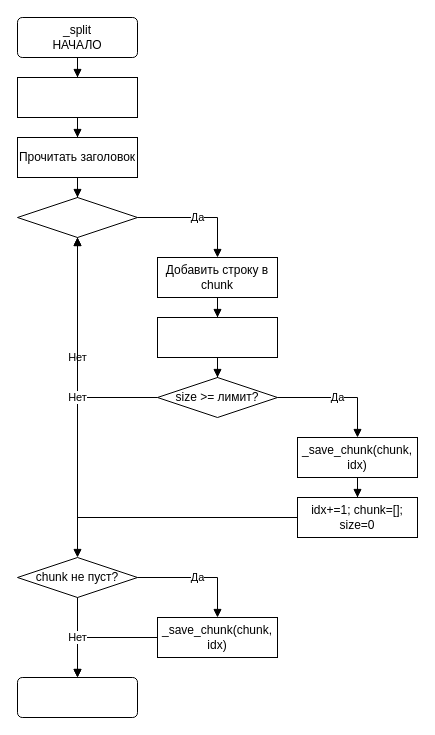
This 435x735 diagram has some shape labels left out. Here are the shapes that lost their labels. From the top down, the centre of each, then its label:
[77,97]: chunk=[], size=0, idx=0
[77,217]: Есть строка?
[217,337]: size += длина строки
[77,697]: КОНЕЦ _split
